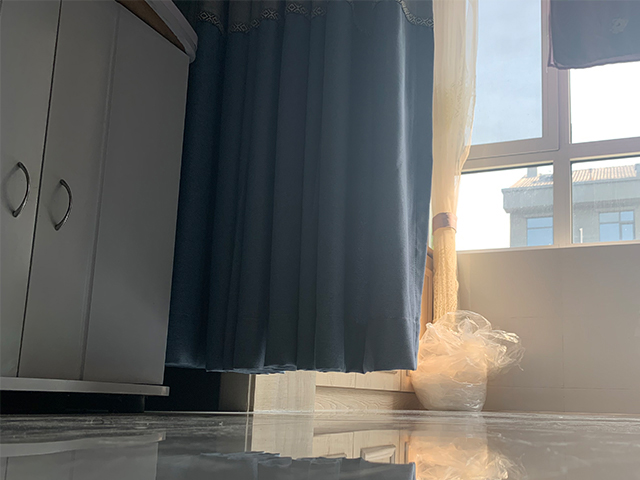cabinet: (1, 1, 200, 415)
curtain: (164, 1, 435, 376), (435, 1, 476, 326)
